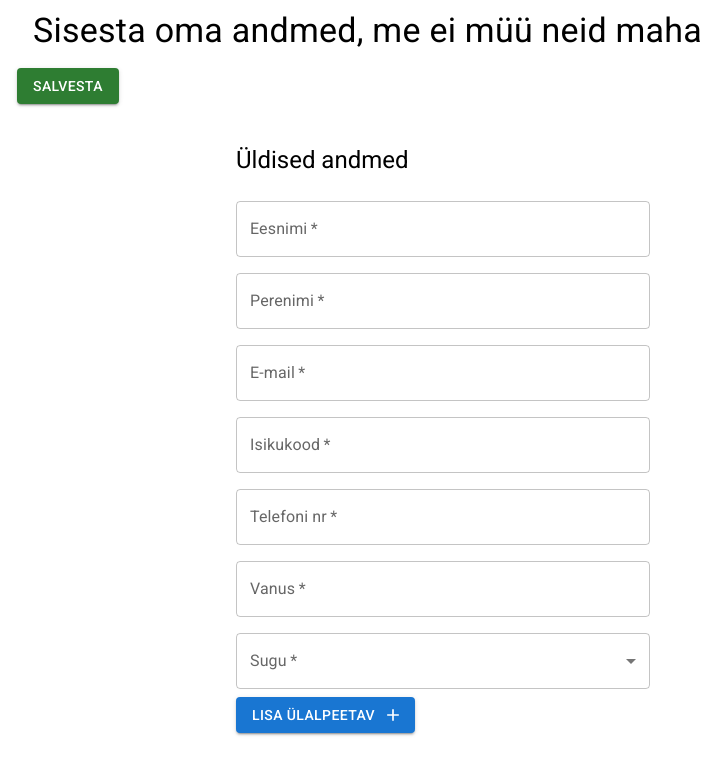
Test: Given no values are set › When save is clicked › Should show error for firstName field
This screenshot has width=717, height=762.
Click the button "Salvesta" at {"x": 68, "y": 86}, box top-left (17, 68), bottom-right (119, 104)
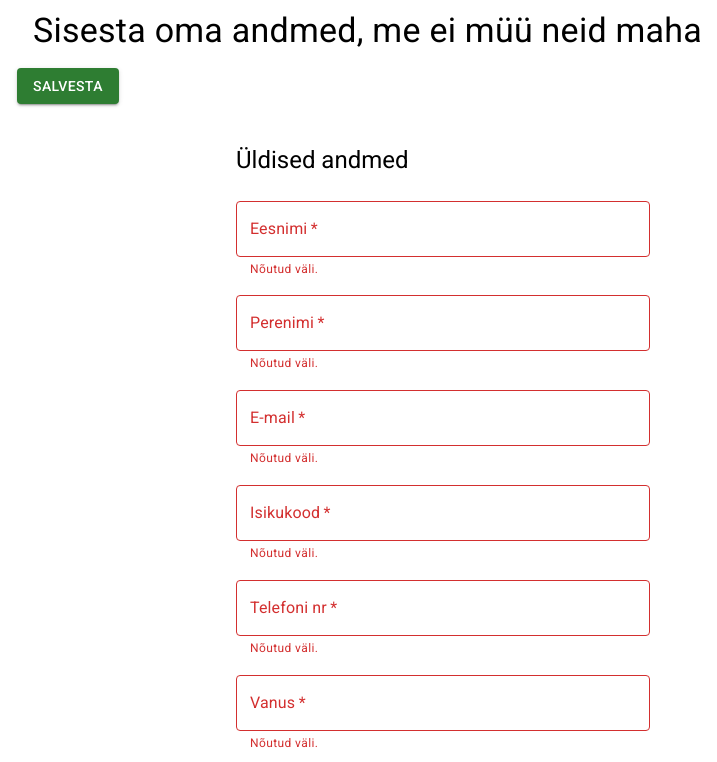
Check: the text "Nõutud väli." below "Eesnimi" is shown, box top-left (250, 262), bottom-right (318, 276)
